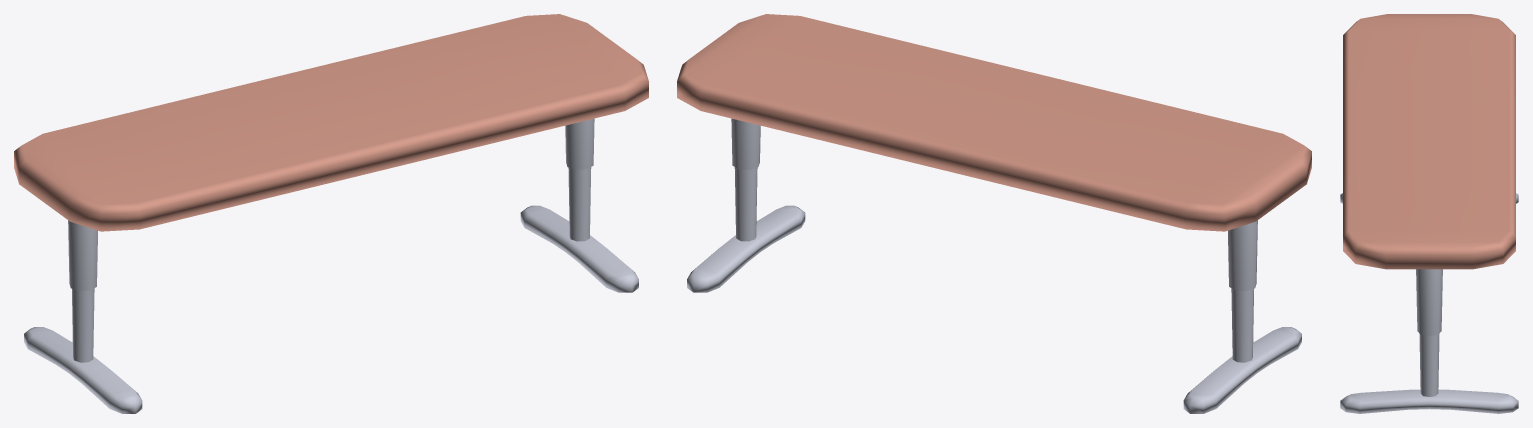
The model's file is table_b_01.glb.
The picture shows the model from 3 angles, left to right: view 1: azimuth 30°, elevation 25°; view 2: azimuth 150°, elevation 25°; view 3: azimuth 270°, elevation 25°; orthographic projection. The views are drawn at different scales.
Visible parts, largest first — view 1: mesh_table_b_01; view 2: mesh_table_b_01; view 3: mesh_table_b_01.
Boxes of the visible parts, x1,y1,x2,y2 form: mesh_table_b_01: (14, 14, 648, 413); mesh_table_b_01: (677, 14, 1311, 413); mesh_table_b_01: (1340, 14, 1518, 413).
Bounding box in the file's own units: 2.82 × 0.9656 × 0.8946.
